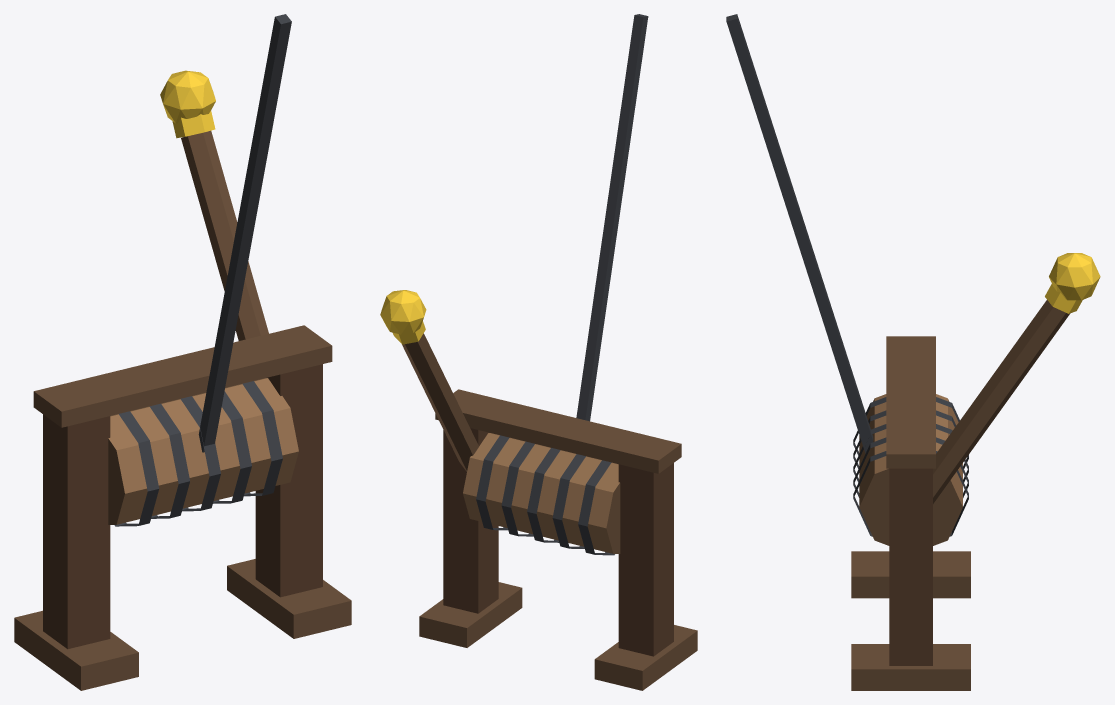
File: castle_lever.glb
3 views of the same model, side by side, from view 1: azimuth 30°, elevation 25°; view 2: azimuth 150°, elevation 25°; view 3: azimuth 270°, elevation 25° (orthographic). The views are drawn at different scales.
Parts seen in each view (by area): view 1: LOD0, Handle_mesh; view 2: LOD0, Handle_mesh; view 3: LOD0, Handle_mesh.
Part boxes in pixels (x1=…): LOD0: x1=14, y1=14, x2=351, y2=690; Handle_mesh: x1=160, y1=70, x2=268, y2=340; LOD0: x1=419, y1=14, x2=697, y2=690; Handle_mesh: x1=380, y1=290, x2=478, y2=471; LOD0: x1=726, y1=14, x2=970, y2=690; Handle_mesh: x1=933, y1=253, x2=1100, y2=503.
Size of the model in its own units: 1.4 by 3.41 by 1.88.
Materials: 1 (1 with a texture image).
